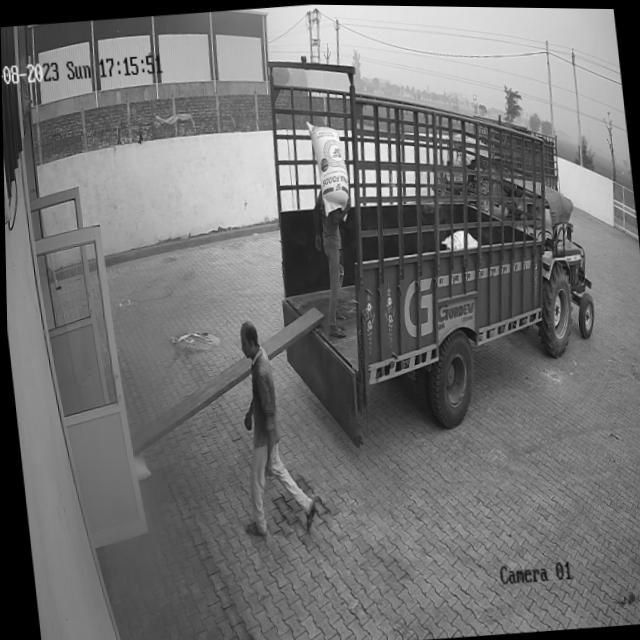sack: (305, 116, 351, 215)
